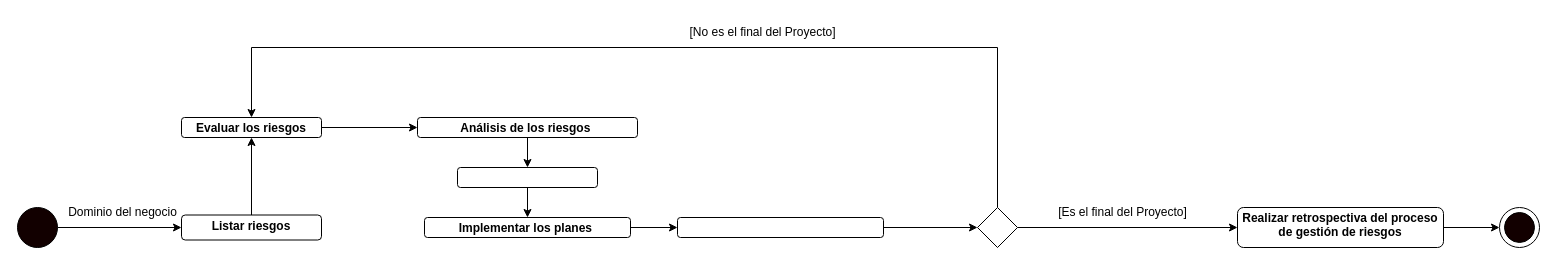
The diagram is 1557 pixels wide and 265 high, and some of its shapes have lost their labels. Here are the shapes that lost their labels. From the top down, the centre of each, then its label:
At (x=527, y=177): "Desarrollar planes".
At (x=780, y=227): "Supervisar los riesgos".
